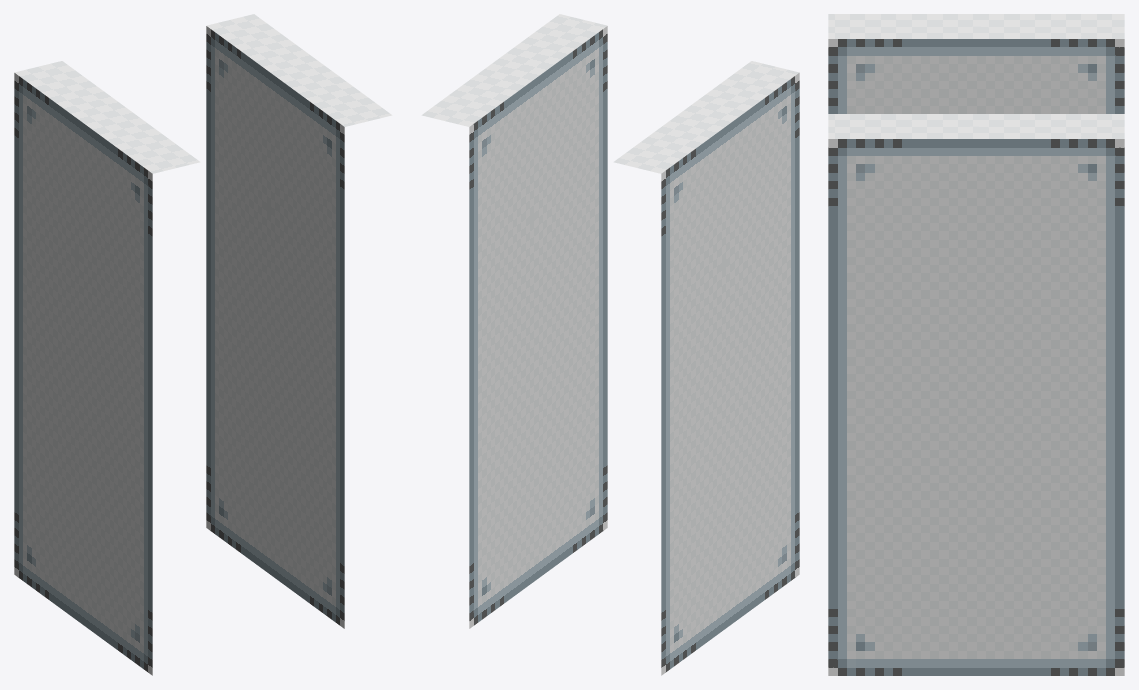
Rendered from double.glb.
3 views of the same model, side by side, from view 1: azimuth 30°, elevation 25°; view 2: azimuth 150°, elevation 25°; view 3: azimuth 270°, elevation 25° (orthographic). The views are drawn at different scales.
Parts seen in each view (by area): view 1: Double; view 2: Double; view 3: Double.
Part boxes in pixels (box(x1,y1,x2,y2)): Double: box(14, 14, 392, 675); Double: box(421, 14, 799, 675); Double: box(828, 14, 1124, 675).
Size of the model in its own units: 2 by 4 by 2.
1 material, 1 textured.
